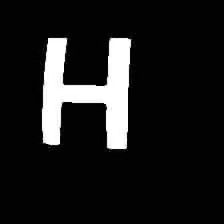LTR_H: (32, 27, 138, 154)
